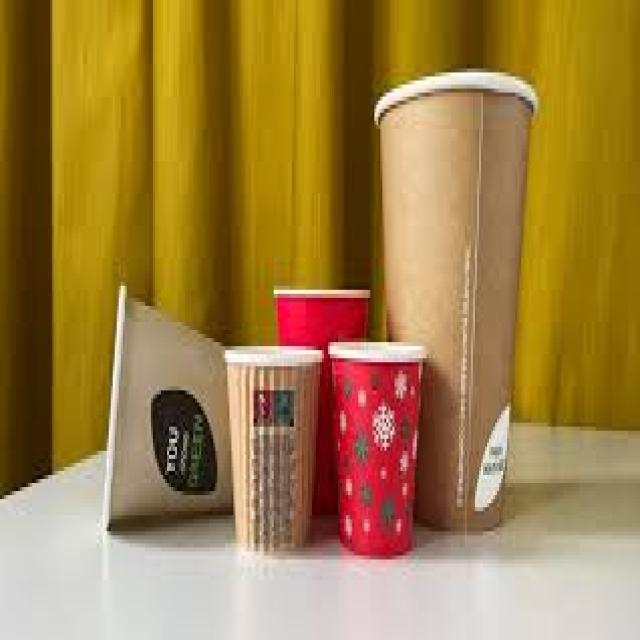styrofoam: (375, 73, 536, 529), (101, 285, 231, 530), (226, 347, 321, 551), (333, 357, 421, 555)
